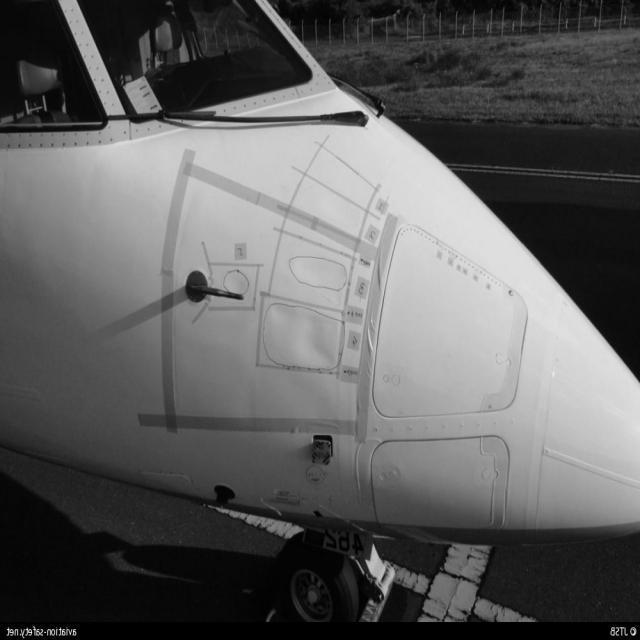dent: (267, 303, 340, 368), (293, 262, 346, 287), (222, 270, 251, 295)
